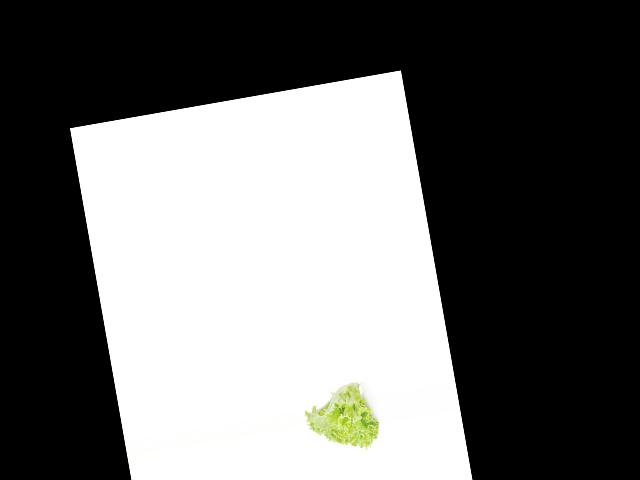lettuce: (298, 374, 383, 462)
